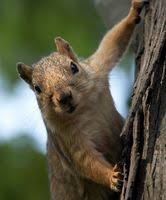Ardilla: (11, 25, 137, 200)
